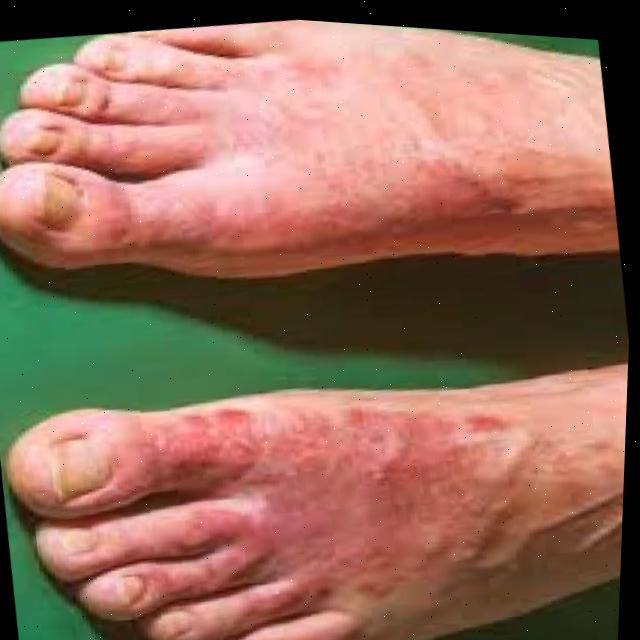Eczema: (92, 358, 576, 640), (116, 46, 503, 275)
